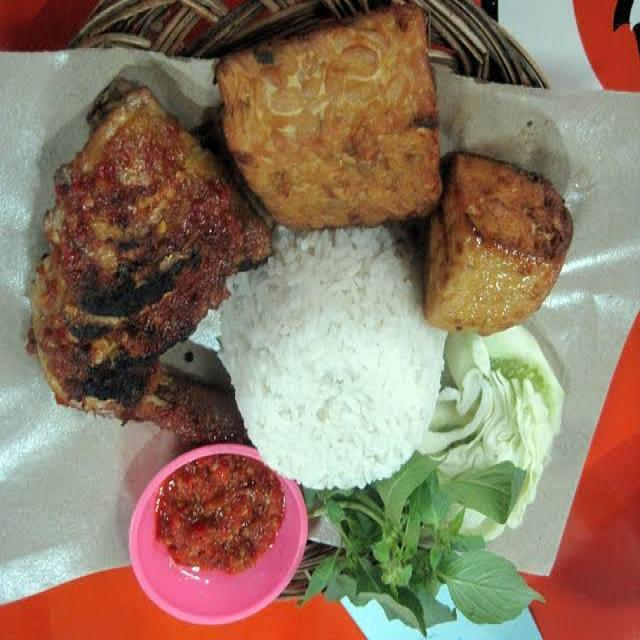ayam_goreng: (24, 76, 245, 450)
nasi_putih: (232, 248, 442, 474)
